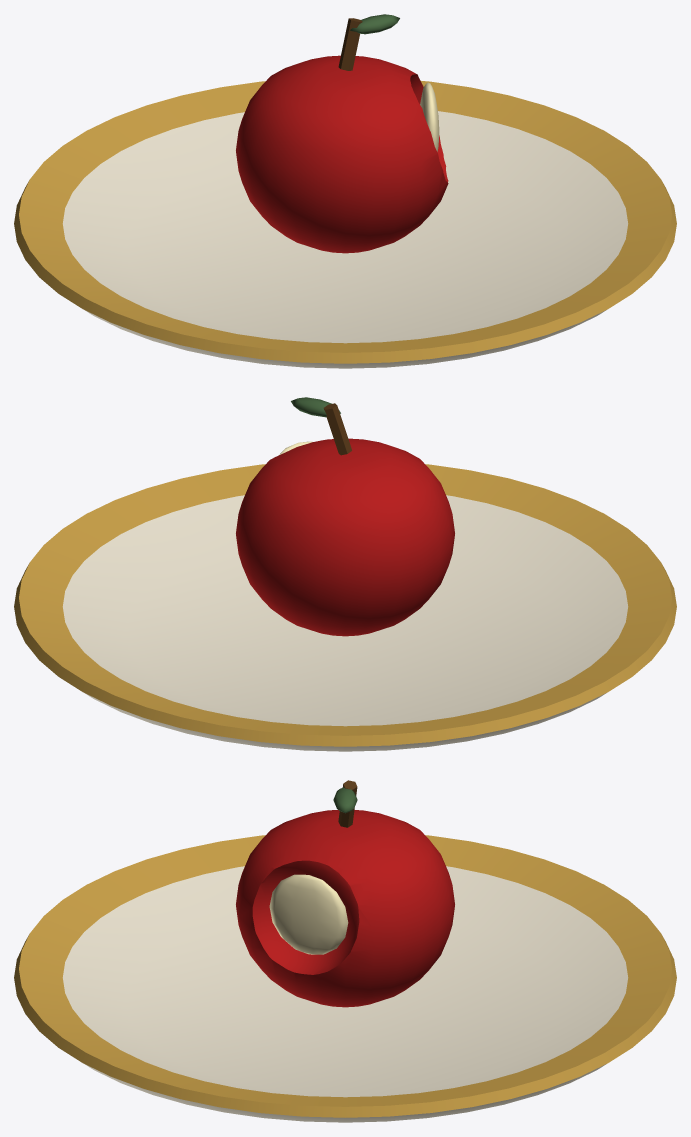
Rendered from PR_ApplePlate.fbx.
3 renders of one model, top to bottom at view 1: azimuth 30°, elevation 25°; view 2: azimuth 150°, elevation 25°; view 3: azimuth 270°, elevation 25°, orthographic.
Visible parts, largest first — view 1: PR_ApplePlate_Plate, PR_ApplePlate_Gold, PR_ApplePlate_Apple, PR_ApplePlate_AppleFlesh, PR_ApplePlate_Stem, PR_ApplePlate_WardrobeIn; view 2: PR_ApplePlate_Plate, PR_ApplePlate_Gold, PR_ApplePlate_Apple, PR_ApplePlate_Stem, PR_ApplePlate_WardrobeIn; view 3: PR_ApplePlate_Plate, PR_ApplePlate_Gold, PR_ApplePlate_Apple, PR_ApplePlate_AppleFlesh.
Boxes of the visible parts, x1,y1,x2,y2 form: PR_ApplePlate_Plate: (62, 111, 628, 368); PR_ApplePlate_Gold: (14, 81, 676, 363); PR_ApplePlate_Apple: (236, 55, 448, 253); PR_ApplePlate_AppleFlesh: (420, 82, 439, 151); PR_ApplePlate_Stem: (338, 18, 362, 70); PR_ApplePlate_WardrobeIn: (350, 14, 399, 34); PR_ApplePlate_Plate: (62, 495, 628, 751); PR_ApplePlate_Gold: (14, 464, 676, 746); PR_ApplePlate_Apple: (236, 438, 454, 636); PR_ApplePlate_Stem: (323, 403, 351, 455); PR_ApplePlate_WardrobeIn: (291, 397, 340, 417); PR_ApplePlate_Plate: (62, 866, 628, 1122); PR_ApplePlate_Gold: (14, 835, 676, 1117); PR_ApplePlate_Apple: (236, 810, 454, 1007); PR_ApplePlate_AppleFlesh: (269, 874, 348, 954).
Size of the model in its own units: 0.272 by 0.1159 by 0.272.
